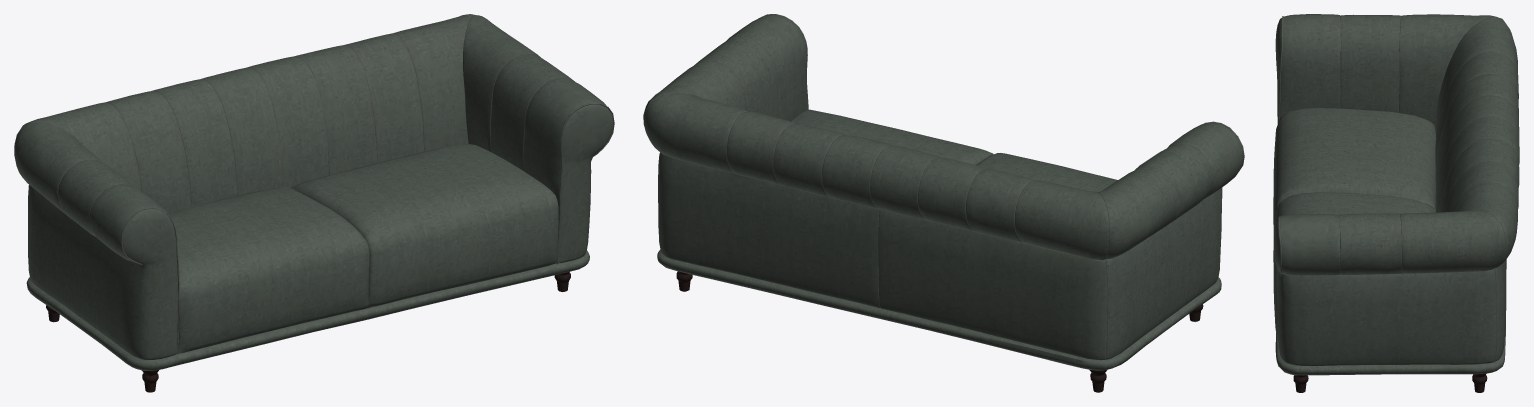
The model's file is cover-lejde-szary-zielony-brazowy.glb.
The picture shows the model from 3 angles, left to right: view 1: azimuth 30°, elevation 25°; view 2: azimuth 150°, elevation 25°; view 3: azimuth 270°, elevation 25°; orthographic projection. The views are drawn at different scales.
Parts seen in each view (by area): view 1: Mesh_0; view 2: Mesh_0; view 3: Mesh_0.
Part boxes in pixels (x1=…): Mesh_0: x1=14, y1=14, x2=614, y2=392; Mesh_0: x1=643, y1=14, x2=1244, y2=392; Mesh_0: x1=1273, y1=14, x2=1519, y2=392.
Bounding box in the file's own units: 1.94 × 0.7399 × 0.9.
2 materials, 2 textured.
